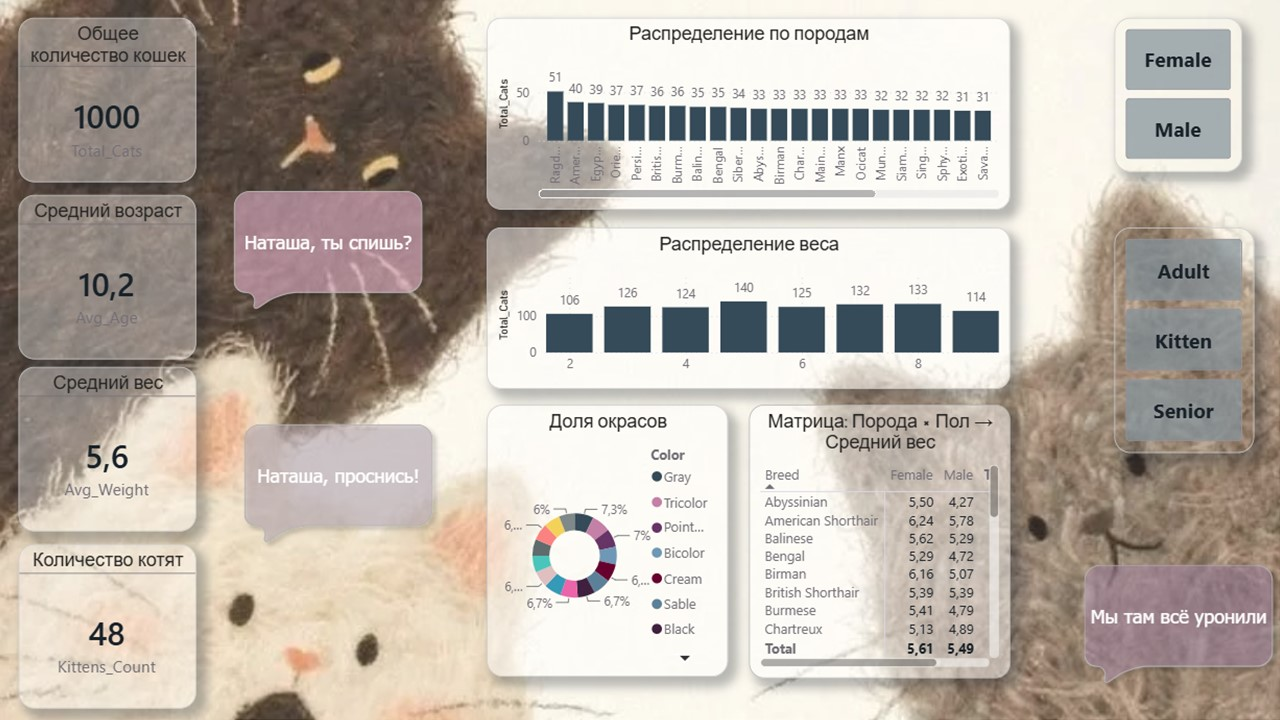

What the dashboard file says about the page in this screenshot:
{"tool":"powerbi","page":{"name":"Page 1","canvas":[1280,720],"ordinal":0},"visuals":[{"type":"shape","title":"Наташа, проснись!","box":[239,415.6,205.8,140.4],"z":0},{"type":"shape","title":"Наташа, проснись!","box":[1075.3,555.8,205.8,140.4],"z":1000},{"type":"shape","title":"Наташа, проснись!","box":[228.6,183.1,205.8,140.4],"z":2000},{"type":"advancedSlicerVisual","fields":{"Values":["cats_dataset.Gender"]},"box":[1114.3,19.5,127.3,153.2],"z":3000},{"type":"advancedSlicerVisual","fields":{"Values":["cats_dataset.Age_Group"]},"box":[1114.3,228.6,139,224.7],"z":4000},{"type":"cardVisual","title":"Общее количество кошек","fields":{"Data":["_Measures.Total_Cats"]},"box":[23.4,19.5,176.6,163.6],"z":5000},{"type":"cardVisual","title":"Средний возраст","fields":{"Data":["_Measures.Avg_Age"]},"box":[23.4,196.1,176.6,163.6],"z":6000},{"type":"cardVisual","title":"Средний вес","fields":{"Data":["_Measures.Avg_Weight"]},"box":[23.4,367.5,176.6,163.6],"z":7000},{"type":"cardVisual","title":"Количество котят","fields":{"Data":["_Measures.Kittens_Count"]},"box":[23.4,544.2,176.6,163.6],"z":8000},{"type":"columnChart","title":"Распределение по породам","fields":{"Category":["cats_dataset.Breed"],"Y":["_Measures.Total_Cats"]},"box":[489.6,19.5,520.8,190.9],"z":9000},{"type":"columnChart","title":"Распределение веса","fields":{"Category":["cats_dataset.Weight_kg"],"Y":["_Measures.Total_Cats"]},"box":[489.6,228.6,520.8,161],"z":10000},{"type":"donutChart","title":"Доля окрасов","fields":{"Category":["cats_dataset.Color"],"Y":["_Measures.Total_Cats"]},"box":[489.6,405.2,240.3,271.4],"z":11000},{"type":"pivotTable","title":"Матрица: Порода × Пол → Средний вес","fields":{"Rows":["cats_dataset.Breed"],"Columns":["cats_dataset.Gender"],"Values":["Avg(cats_dataset.Weight_kg)"]},"box":[750.6,405.2,259.7,272.7],"z":12000}]}

Visuals, with their boxes in screenshot pixels (x1, y1, x2, y2), scaled from the page's 1280x720 canvas onto the 1280x720 screenshot:
"Наташа, проснись!" shape: crop(239, 416, 445, 556)
"Наташа, проснись!" shape: crop(1075, 556, 1279, 696)
"Наташа, проснись!" shape: crop(229, 183, 434, 324)
advancedSlicerVisual - cats_dataset.Gender: crop(1114, 20, 1242, 173)
advancedSlicerVisual - cats_dataset.Age_Group: crop(1114, 229, 1253, 453)
"Общее количество кошек" cardVisual: crop(23, 20, 200, 183)
"Средний возраст" cardVisual: crop(23, 196, 200, 360)
"Средний вес" cardVisual: crop(23, 368, 200, 531)
"Количество котят" cardVisual: crop(23, 544, 200, 708)
"Распределение по породам" columnChart: crop(490, 20, 1010, 210)
"Распределение веса" columnChart: crop(490, 229, 1010, 390)
"Доля окрасов" donutChart: crop(490, 405, 730, 677)
"Матрица: Порода × Пол → Средний вес" pivotTable: crop(751, 405, 1010, 678)
